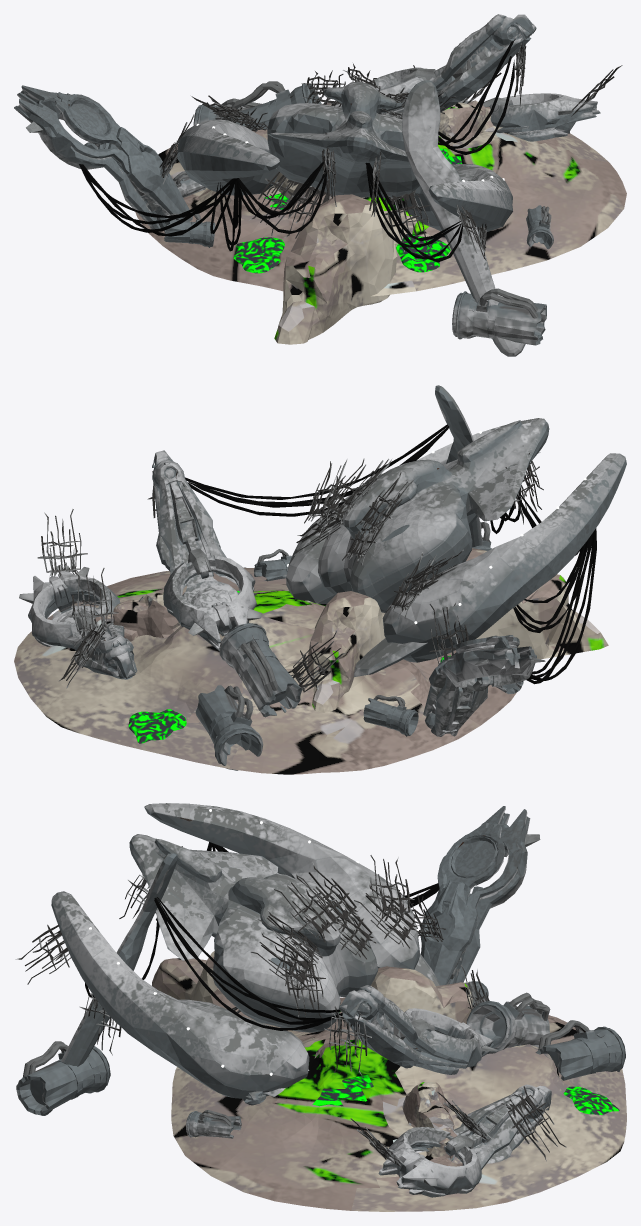
The model's file is CrashSite.fbx.
The picture shows the model from 3 angles, top to bottom: view 1: azimuth 30°, elevation 25°; view 2: azimuth 150°, elevation 25°; view 3: azimuth 270°, elevation 25°; orthographic projection. The views are drawn at different scales.
Visible parts, largest first — view 1: CrashSite; view 2: CrashSite; view 3: CrashSite.
Part boxes in pixels (x1,y1,x2,y2): CrashSite: (14, 14, 626, 356); CrashSite: (14, 385, 626, 774); CrashSite: (15, 803, 626, 1211).
Size of the model in its own units: 24.36 by 10.2 by 22.83.
